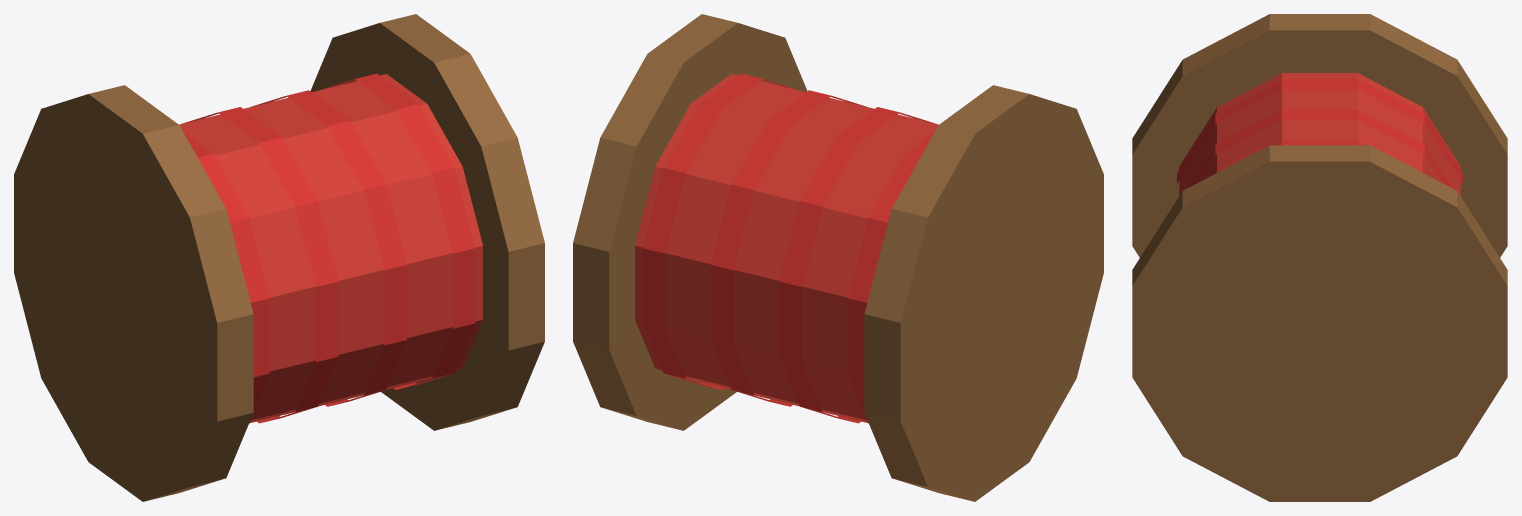
The model's file is item_insulated_cable.glb.
The picture shows the model from 3 angles, left to right: view 1: azimuth 30°, elevation 25°; view 2: azimuth 150°, elevation 25°; view 3: azimuth 270°, elevation 25°; orthographic projection. The views are drawn at different scales.
Visible parts, largest first — view 1: item_insulated_cable; view 2: item_insulated_cable; view 3: item_insulated_cable.
Part boxes in pixels (bbox=[...]): item_insulated_cable: bbox=[14, 14, 544, 501]; item_insulated_cable: bbox=[573, 14, 1103, 501]; item_insulated_cable: bbox=[1132, 14, 1507, 501].
Size of the model in its own units: 0.72 by 0.7728 by 0.7728.
